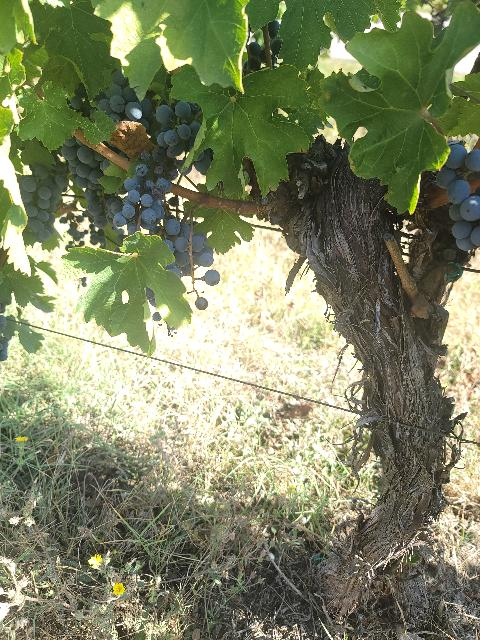grapes: (105, 146, 178, 234), (164, 215, 220, 310), (61, 138, 109, 246), (436, 142, 480, 251), (19, 162, 69, 245)
